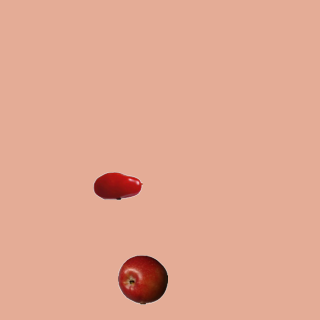Apple Braeburn: (117, 254, 167, 304)
Tomato 2: (92, 160, 142, 210)
